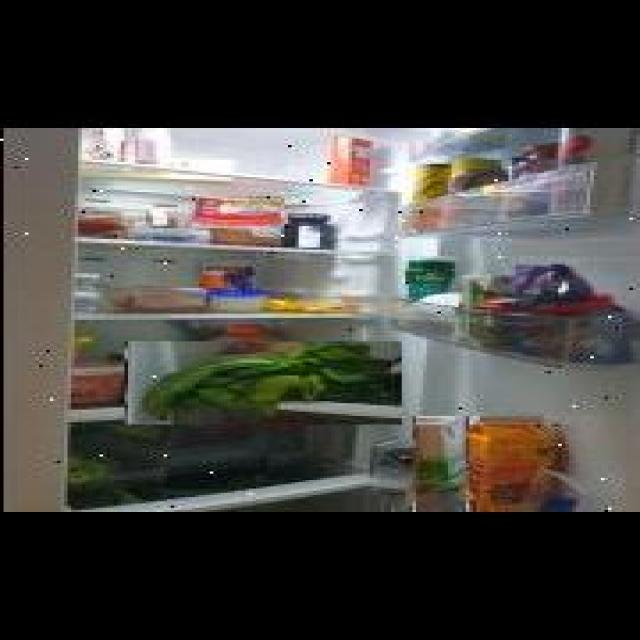butter: (192, 196, 284, 228)
milk: (412, 416, 466, 512)
pak_choi: (124, 342, 398, 424)
tomato_sauce: (327, 135, 377, 191)
